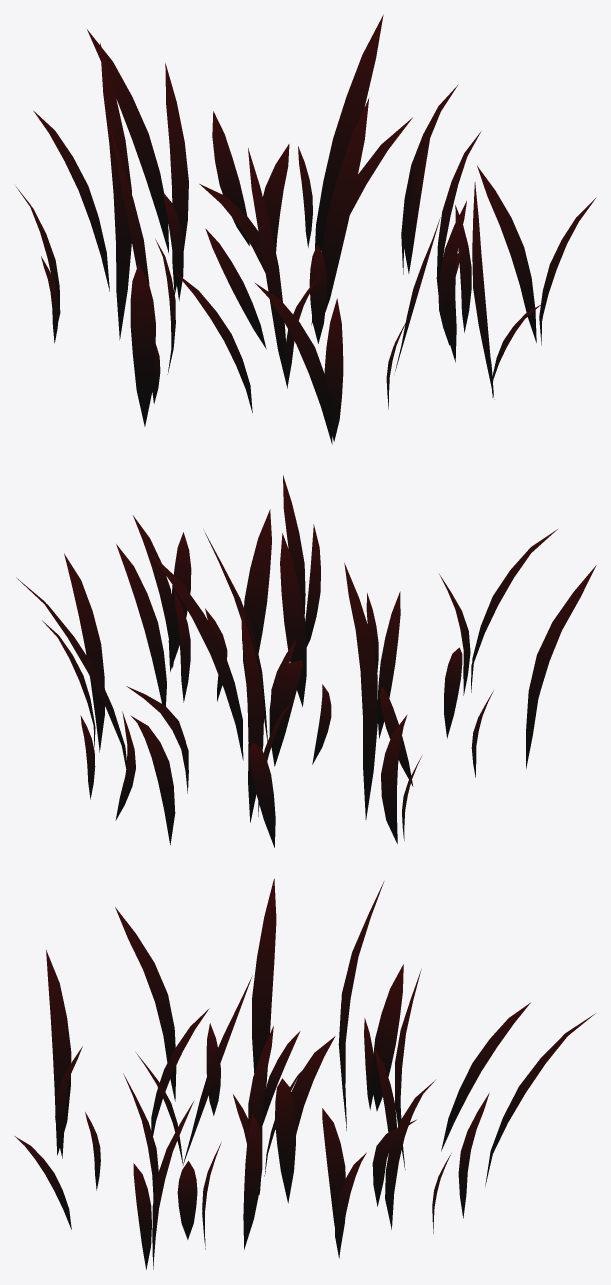
The model's file is herbes hp.fbx.
The picture shows the model from 3 angles, top to bottom: view 1: azimuth 30°, elevation 25°; view 2: azimuth 150°, elevation 25°; view 3: azimuth 270°, elevation 25°; orthographic projection. The views are drawn at different scales.
Parts seen in each view (by area): view 1: herbes hp; view 2: herbes hp; view 3: herbes hp.
Boxes of the visible parts, left/top/right/bottom form: herbes hp: left=16, top=14, right=596, bottom=444; herbes hp: left=16, top=475, right=596, bottom=847; herbes hp: left=14, top=878, right=595, bottom=1269.
Size of the model in its own units: 327 by 188 by 390.
